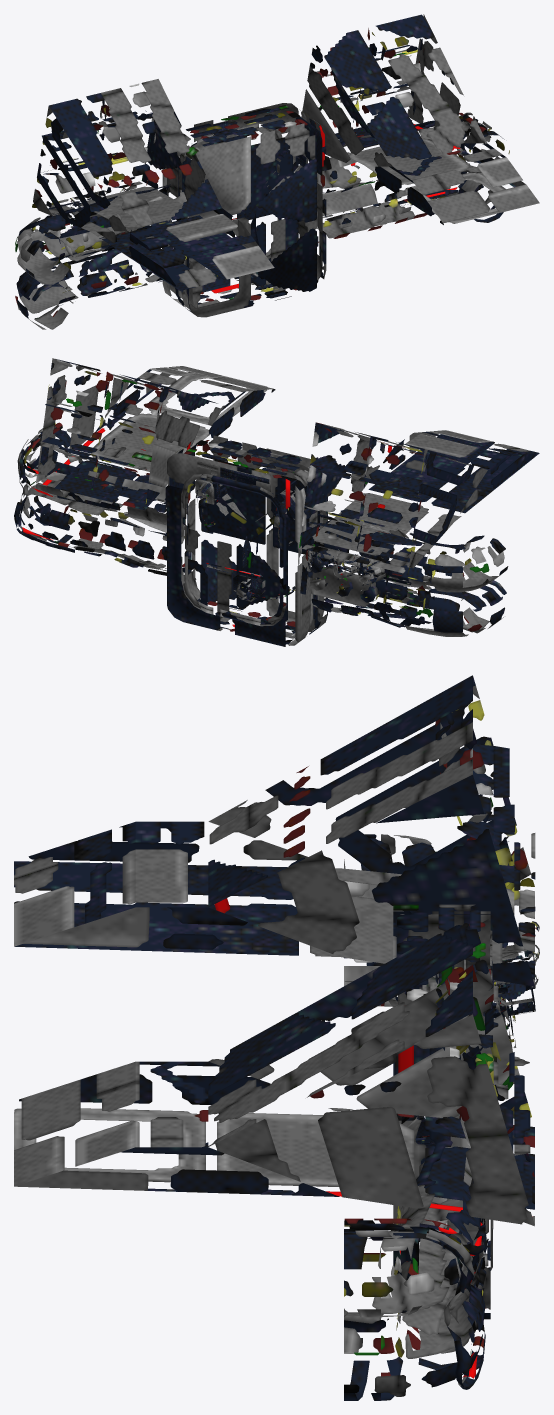
File: Flux Capacitor.fbx
3 renders of one model, top to bottom at view 1: azimuth 30°, elevation 25°; view 2: azimuth 150°, elevation 25°; view 3: azimuth 270°, elevation 25°, orthographic. The views are drawn at different scales.
Parts seen in each view (by area): view 1: flux capacitor; view 2: flux capacitor; view 3: flux capacitor.
Boxes of the visible parts, x1,y1,x2,y2 form: flux capacitor: (15,14,539,329); flux capacitor: (14,358,539,646); flux capacitor: (14,675,539,1400).
Bounding box in the file's own units: 6.42 × 2.95 × 3.3.
